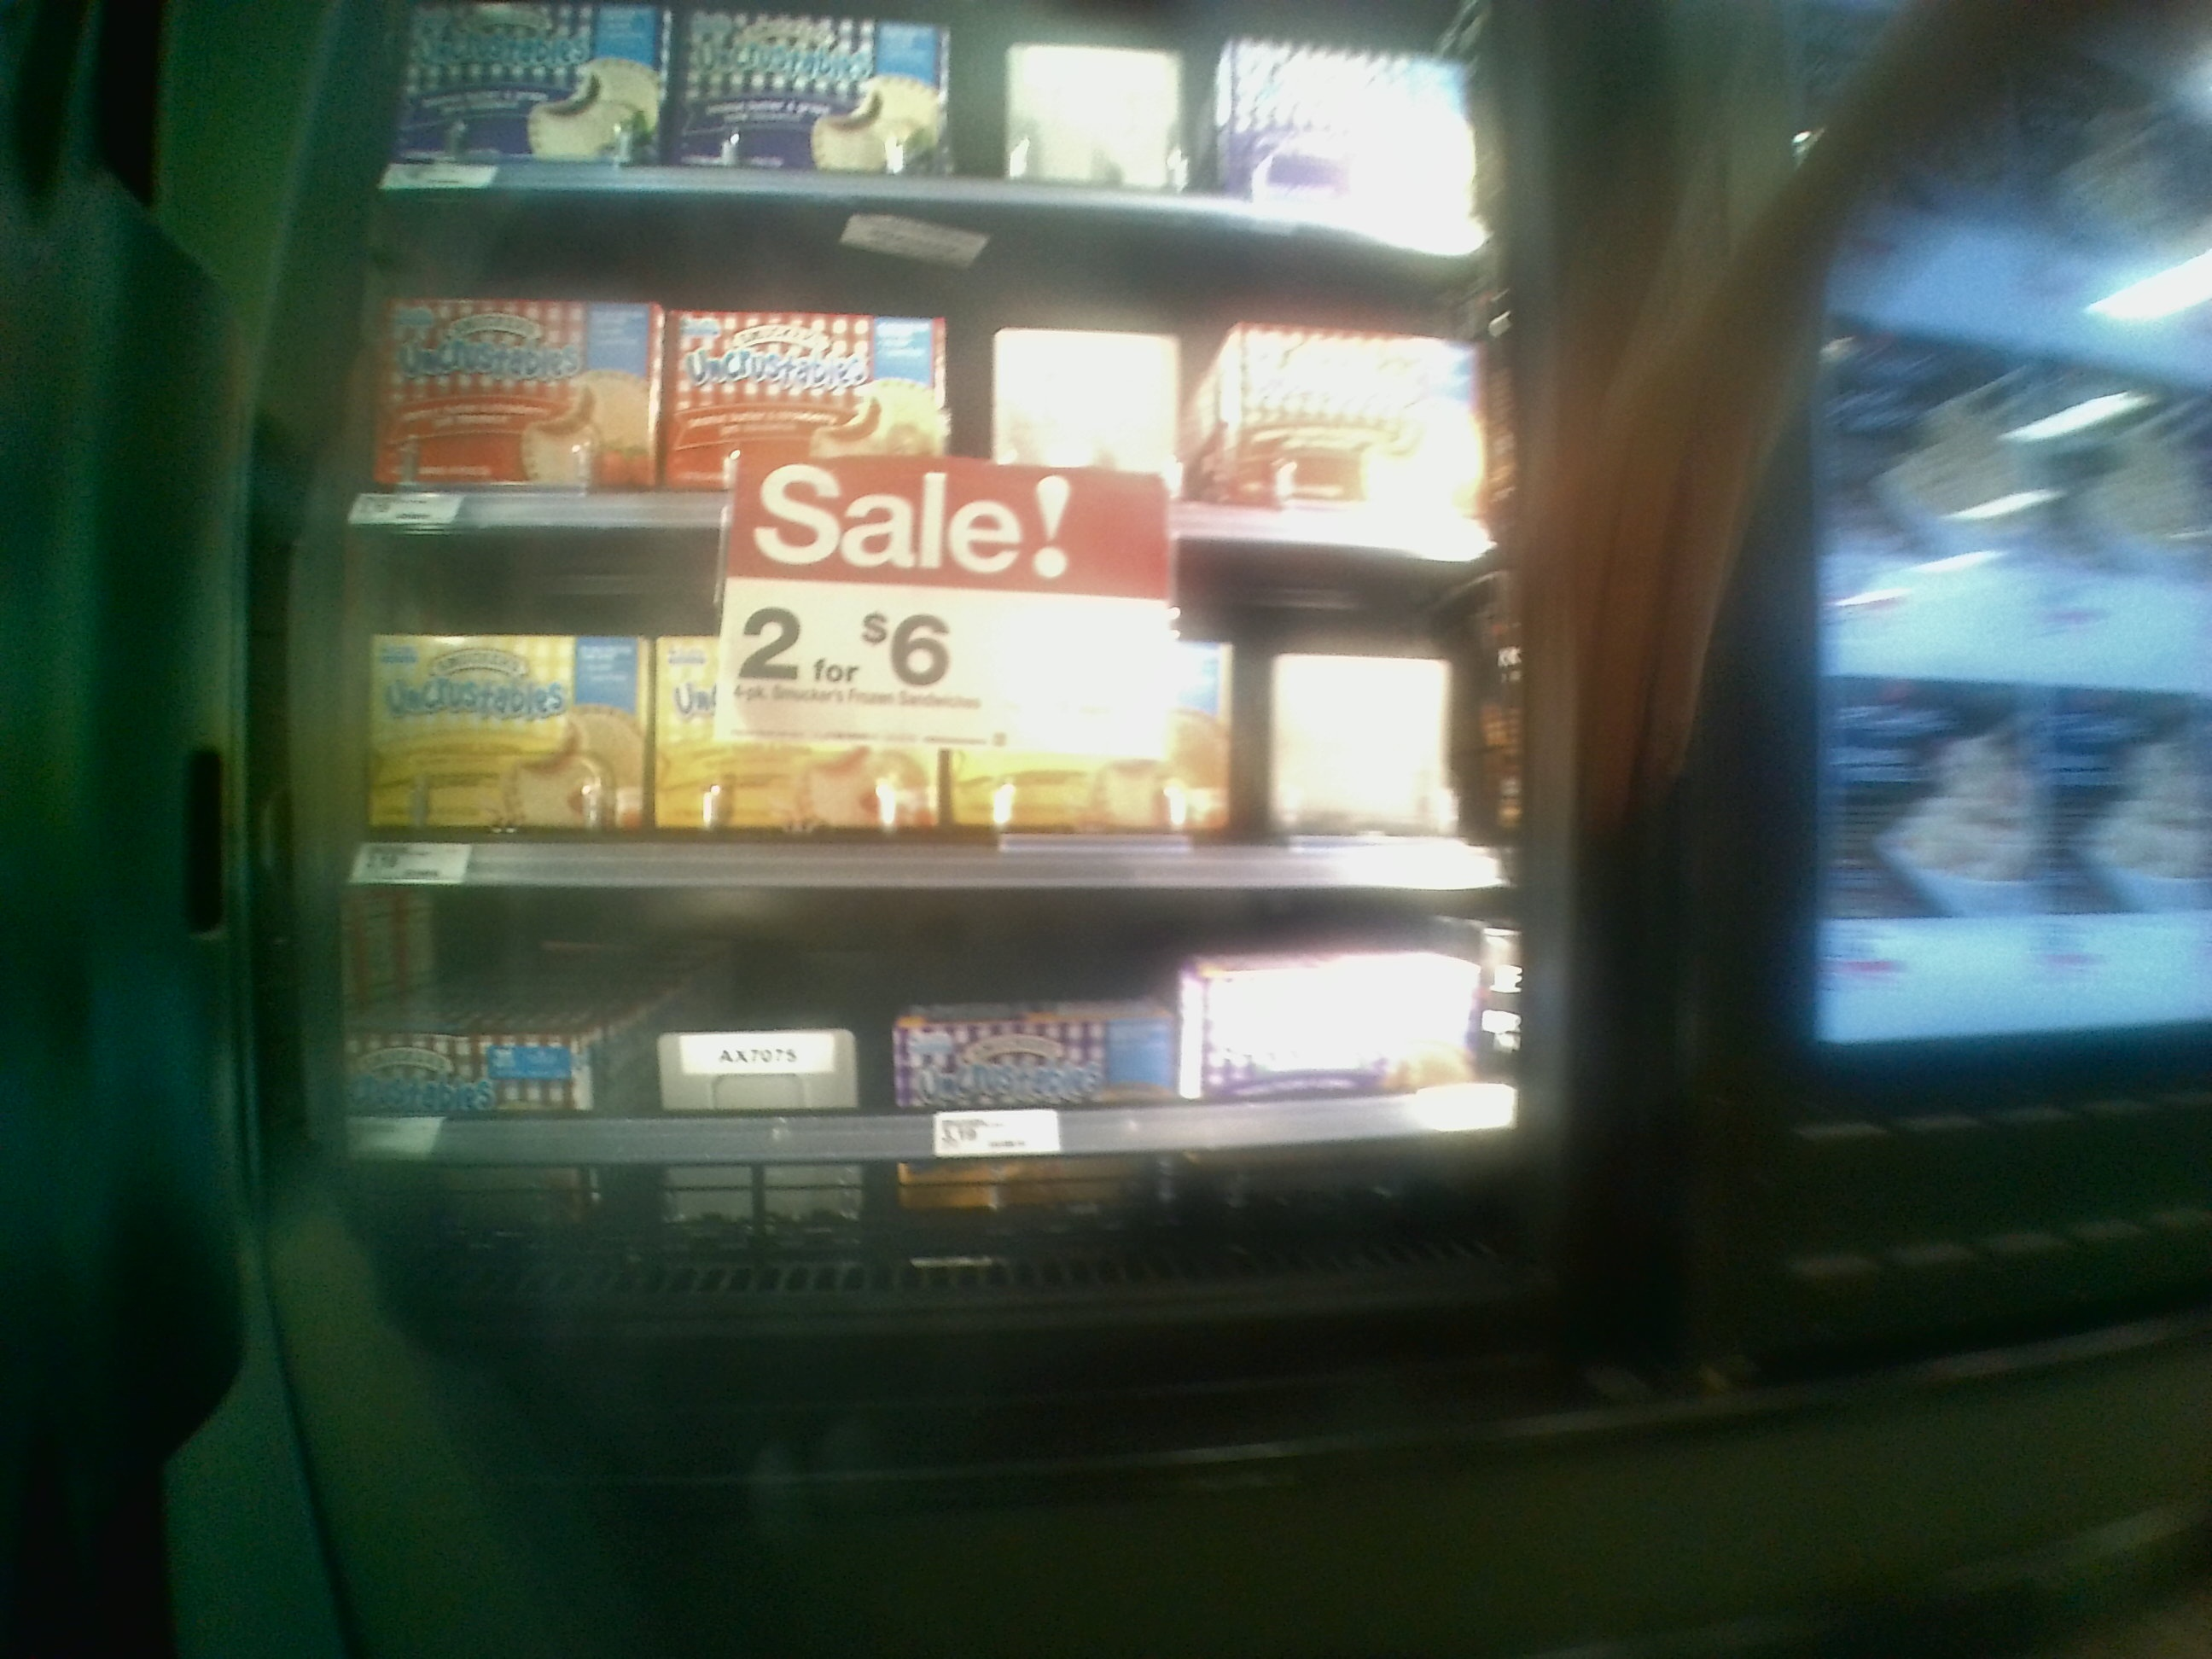shelf: (320, 875, 1545, 1286), (327, 523, 1507, 896), (359, 185, 1507, 554)
